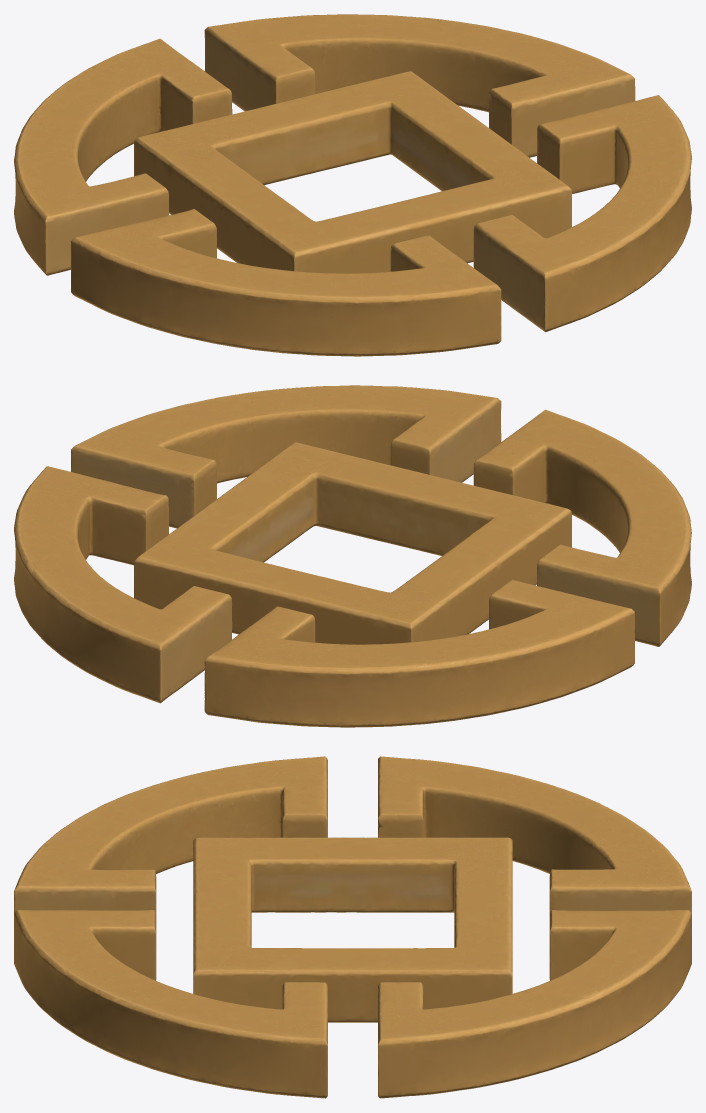
The model's file is emblem.glb.
3 views of the same model, one above another, from view 1: azimuth 30°, elevation 25°; view 2: azimuth 150°, elevation 25°; view 3: azimuth 270°, elevation 25° (orthographic).
Size of the model in its own units: 1.9 by 0.1828 by 1.9.
Materials: 1 (1 with a texture image).
